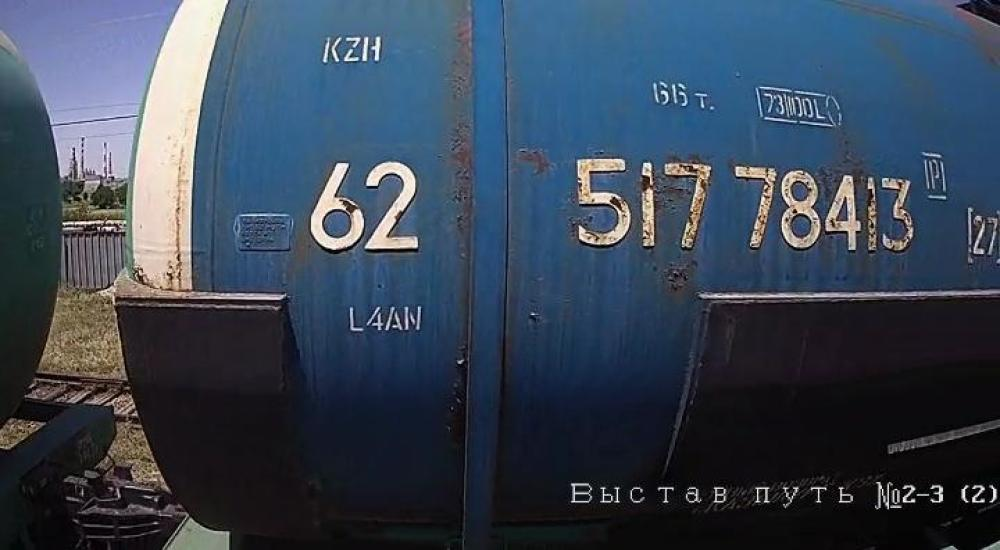Wagon-number: (568, 152, 919, 256)
